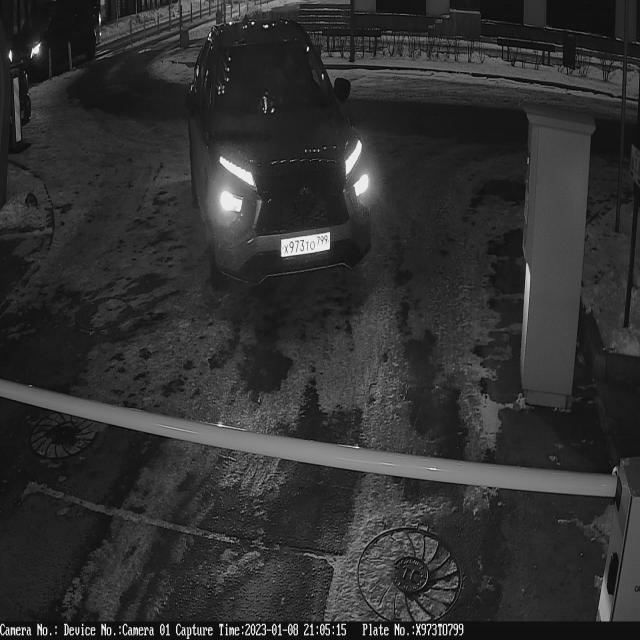car-plate-numbers: (276, 229, 335, 267)
